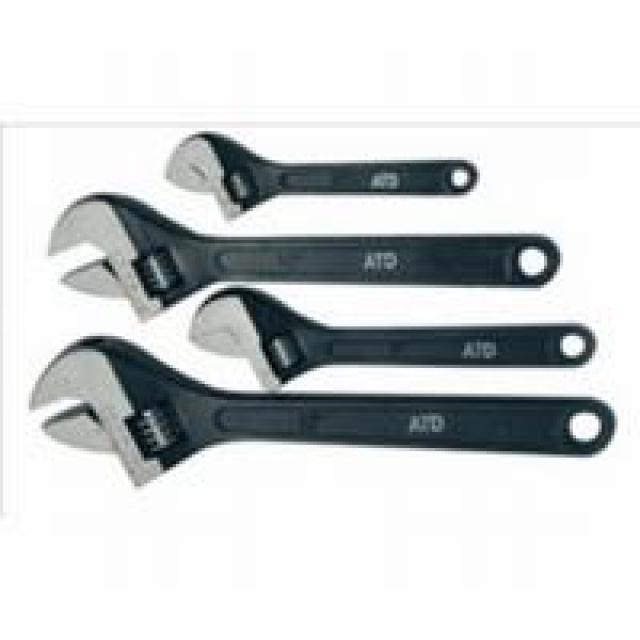wrench: (162, 245, 588, 397), (130, 94, 493, 225)
